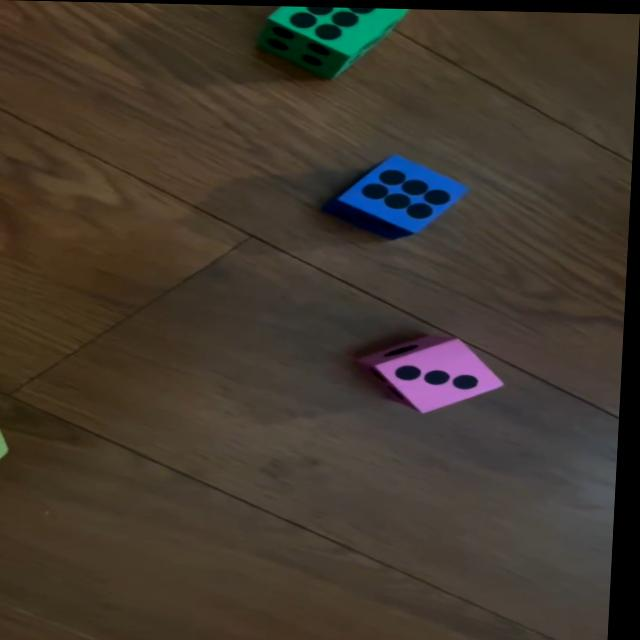blue_block: (322, 151, 475, 237)
